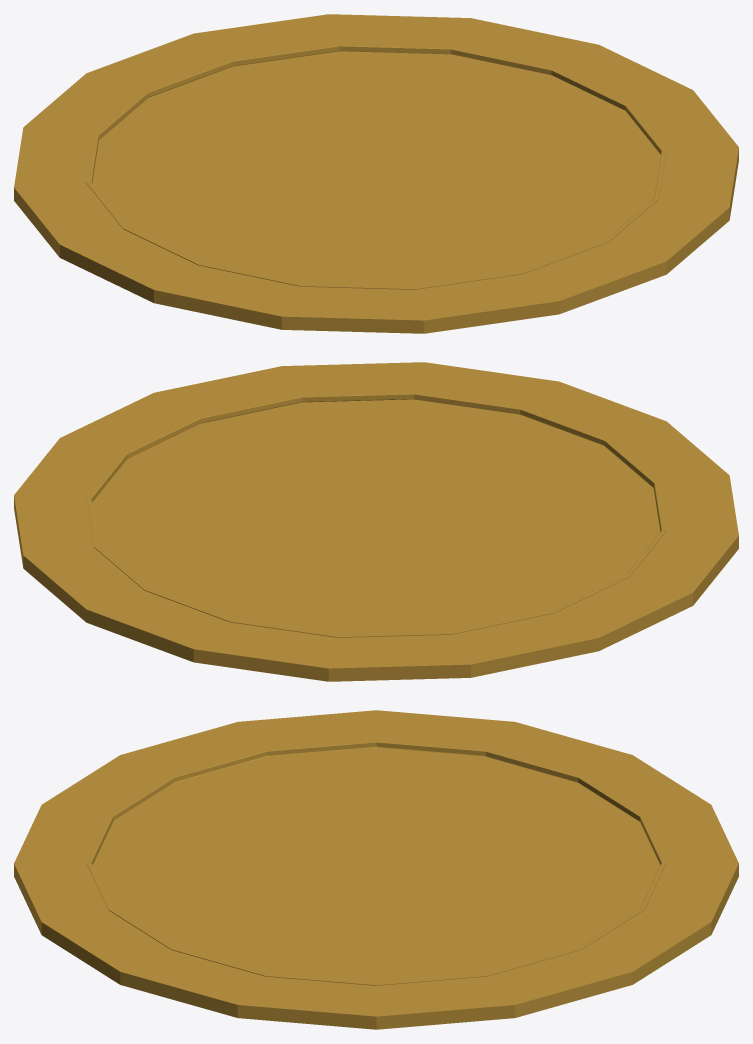
The picture shows the model from 3 angles, top to bottom: view 1: azimuth 30°, elevation 25°; view 2: azimuth 150°, elevation 25°; view 3: azimuth 270°, elevation 25°; orthographic projection.
Parts seen in each view (by area): view 1: Circle, Dalgona; view 2: Circle, Dalgona; view 3: Circle, Dalgona.
Part boxes in pixels (x1,y1,x2,y2): Circle: [86, 44, 666, 289]; Dalgona: [14, 14, 738, 333]; Circle: [86, 392, 666, 637]; Dalgona: [14, 362, 738, 681]; Circle: [86, 740, 666, 985]; Dalgona: [14, 710, 738, 1029].
Size of the model in its own units: 100 by 2.46 by 100.
